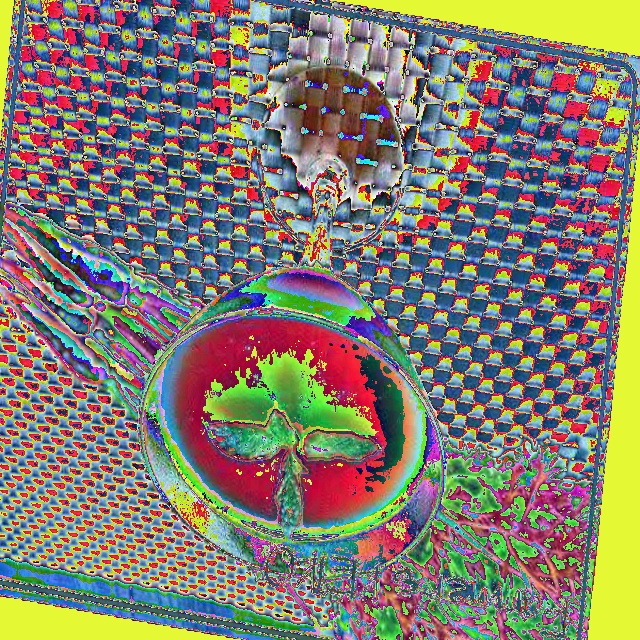background: (0, 200, 604, 639)
